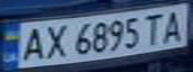5: (121, 15, 145, 49)
6: (69, 20, 93, 56)
8: (90, 19, 112, 54)
9: (106, 17, 127, 52)
A: (15, 25, 48, 63), (157, 7, 190, 43)
T: (139, 11, 169, 46)
X: (39, 21, 69, 61)
